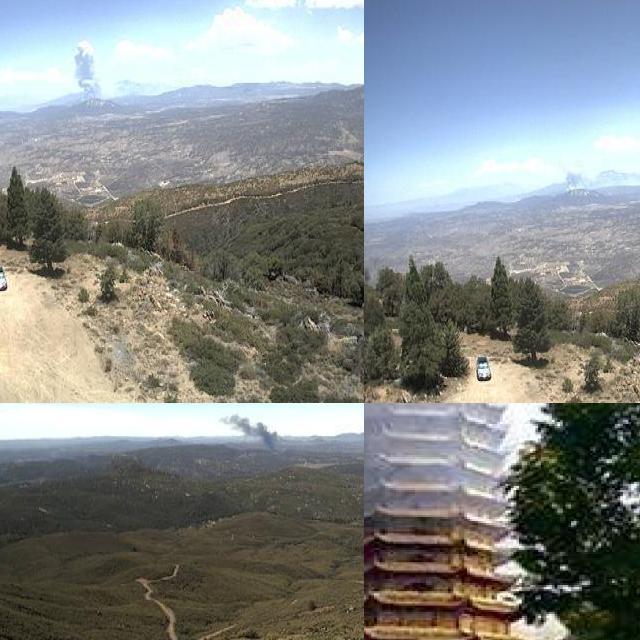smoke: (216, 408, 285, 461), (70, 39, 102, 111), (560, 168, 593, 197)
